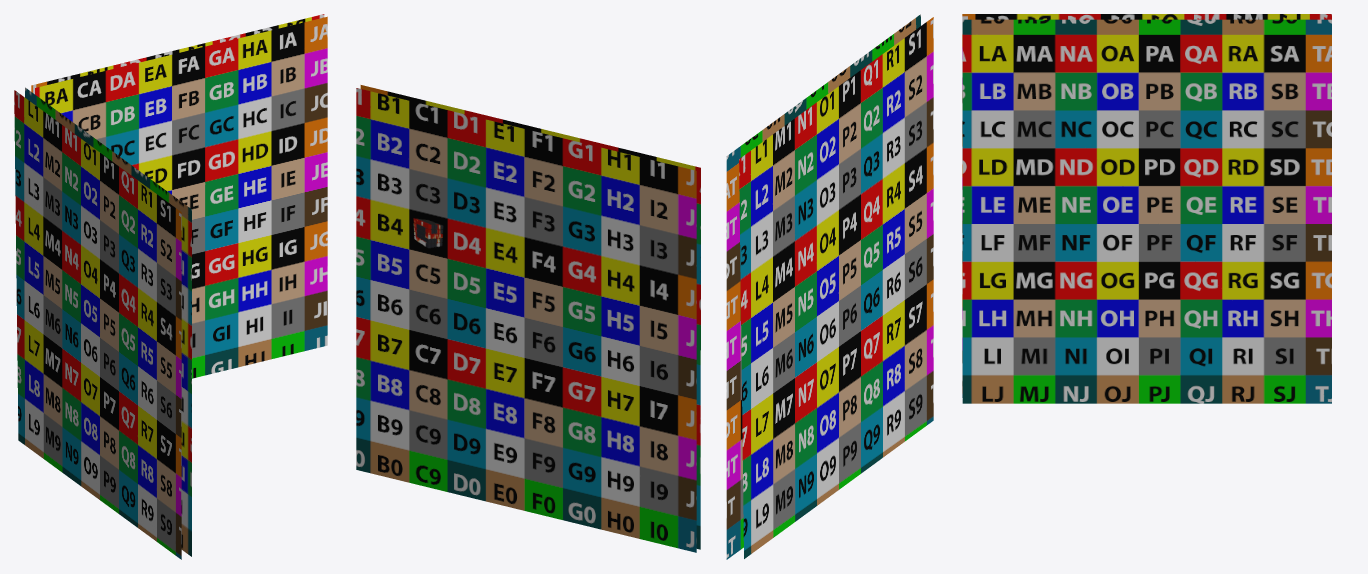
File: glass.FBX
The picture shows the model from 3 angles, left to right: view 1: azimuth 30°, elevation 25°; view 2: azimuth 150°, elevation 25°; view 3: azimuth 270°, elevation 25°; orthographic projection. The views are drawn at different scales.
Parts seen in each view (by area): view 1: Glass; view 2: Glass; view 3: Glass.
Boxes of the visible parts, x1=… form: Glass: x1=14, y1=14, x2=327, y2=559; Glass: x1=356, y1=14, x2=933, y2=559; Glass: x1=962, y1=14, x2=1331, y2=403.
Size of the model in its own units: 1.78 by 1.85 by 1.71.
1 material, 1 textured.
